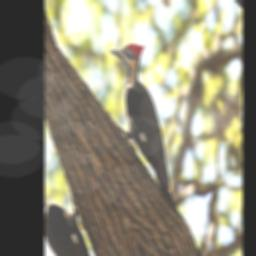Woodpecker: (87, 18, 213, 244)
